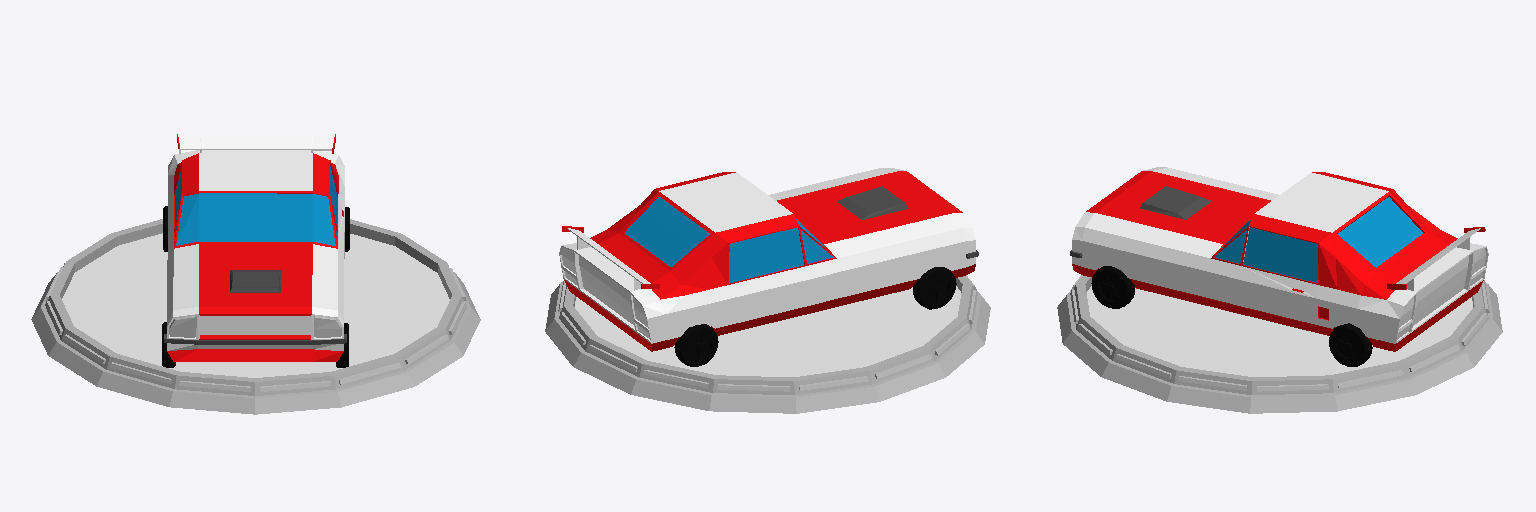
Rendered from Car-OBJ.obj.
3 views of the same model, side by side, from view 1: azimuth 30°, elevation 25°; view 2: azimuth 150°, elevation 25°; view 3: azimuth 270°, elevation 25° (orthographic).
Parts seen in each view (by area): view 1: Cylinder.001, Cylinder; view 2: Cylinder, Cylinder.001; view 3: Cylinder, Cylinder.001.
Part boxes in pixels (x1,y1,x2,y2): Cylinder.001: (31,219,480,414); Cylinder: (162,134,349,367); Cylinder: (559,168,978,366); Cylinder.001: (545,275,990,413); Cylinder: (1070,167,1488,366); Cylinder.001: (1057,275,1502,413).
Bounding box in the file's own units: 4.21 × 1.33 × 4.21.